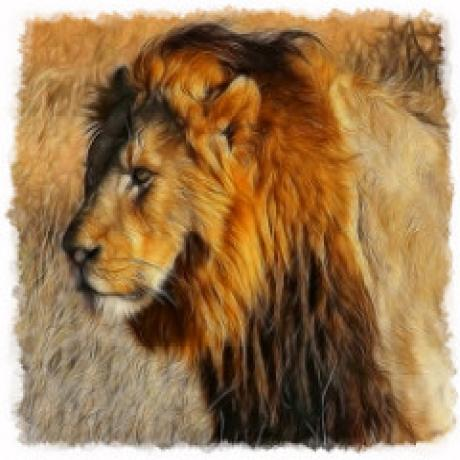Lion: (62, 21, 454, 443)
